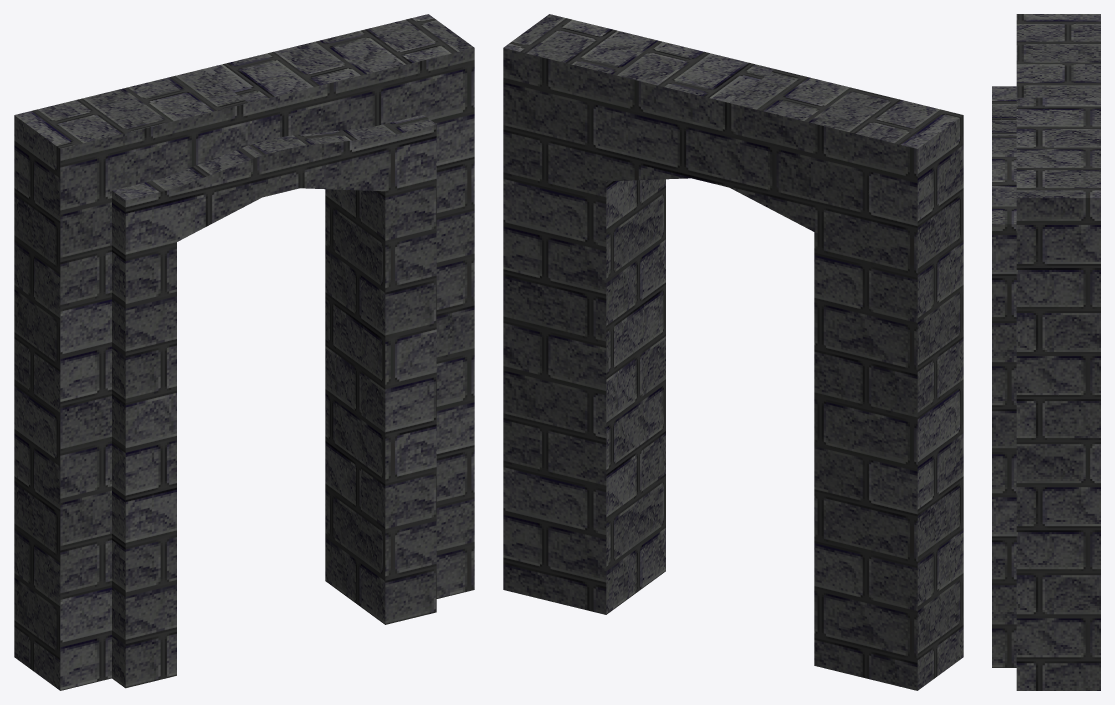
The model's file is DungeonExitDoorFrame.fbx.
3 views of the same model, side by side, from view 1: azimuth 30°, elevation 25°; view 2: azimuth 150°, elevation 25°; view 3: azimuth 270°, elevation 25° (orthographic). The views are drawn at different scales.
Visible parts, largest first — view 1: Door; view 2: Door; view 3: Door.
Part boxes in pixels (<box>): Door: <box>14,14,474,690</box>; Door: <box>503,14,963,690</box>; Door: <box>992,14,1100,690</box>.
Bounding box in the file's own units: 400 × 500 × 100.
